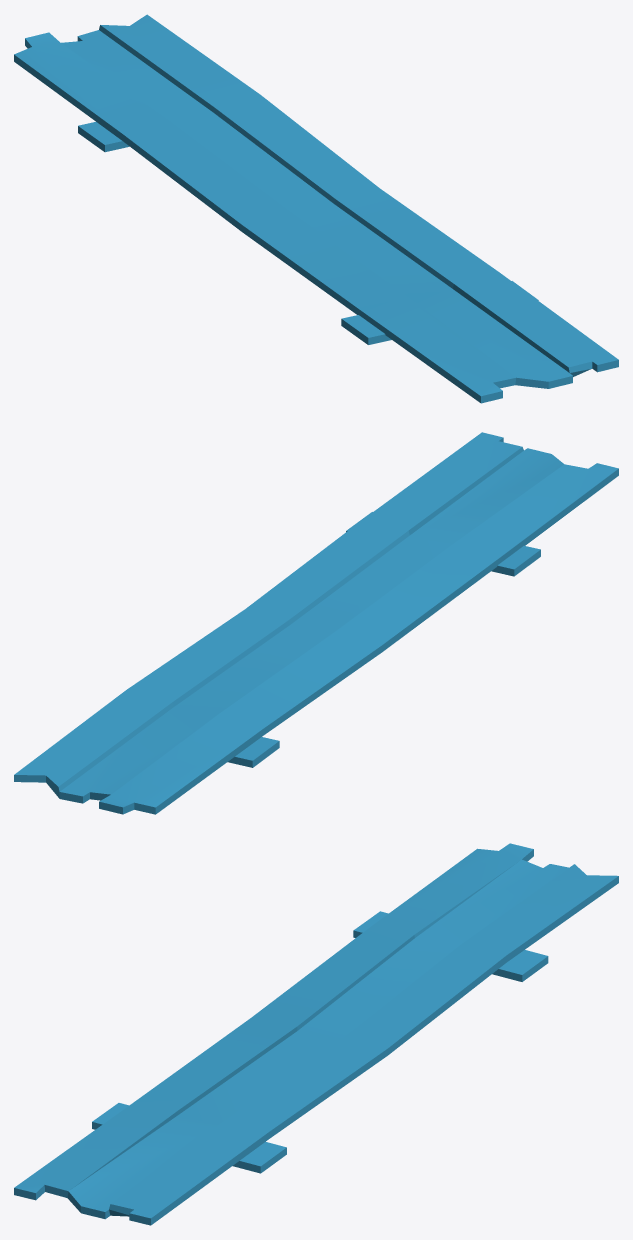
File: WoodPlatform.fbx
The picture shows the model from 3 angles, top to bottom: view 1: azimuth 30°, elevation 25°; view 2: azimuth 150°, elevation 25°; view 3: azimuth 330°, elevation 25°; orthographic projection.
Visible parts, largest first — view 1: WoodPlatform; view 2: WoodPlatform; view 3: WoodPlatform.
Boxes of the visible parts, left/top/right/bottom form: WoodPlatform: left=14, top=14, right=618, bottom=403; WoodPlatform: left=14, top=432, right=618, bottom=814; WoodPlatform: left=14, top=843, right=618, bottom=1225.
Size of the model in its own units: 185 by 24.75 by 900.
